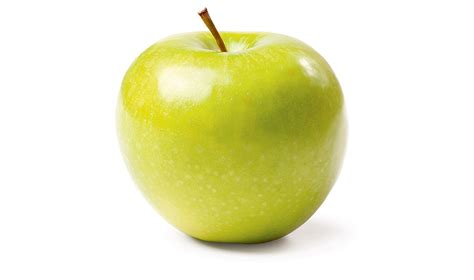apple: (117, 28, 350, 246)
